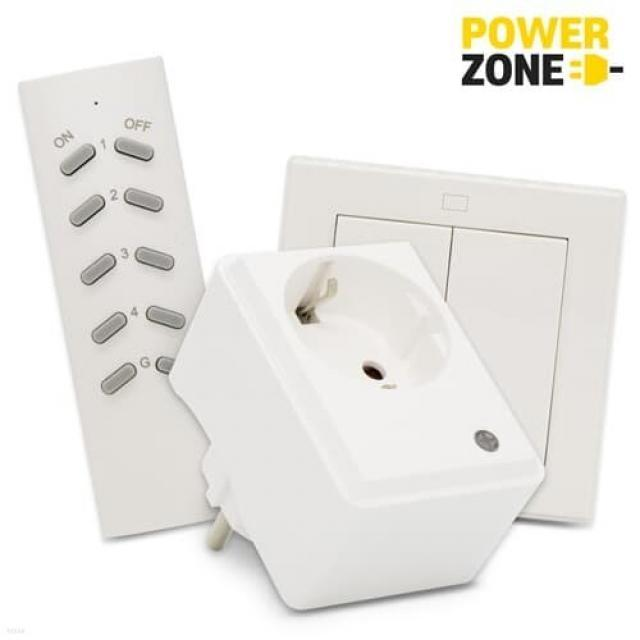typeb: (198, 201, 542, 554)
